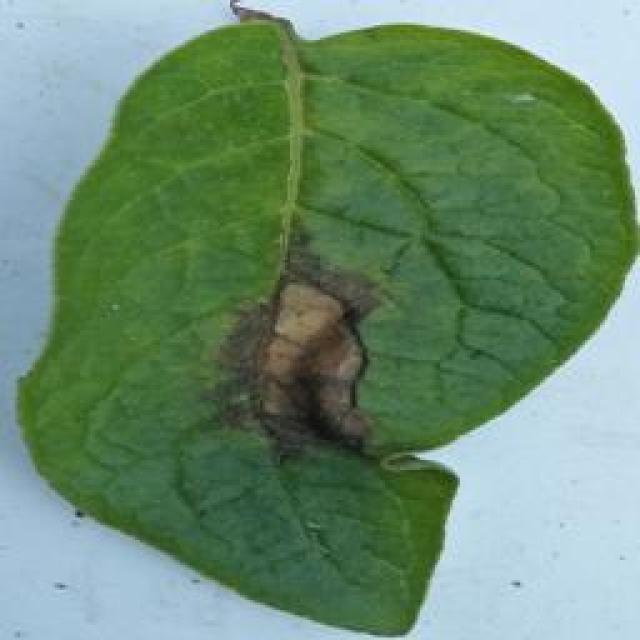Potato_Late_Blight: (16, 9, 628, 638)
